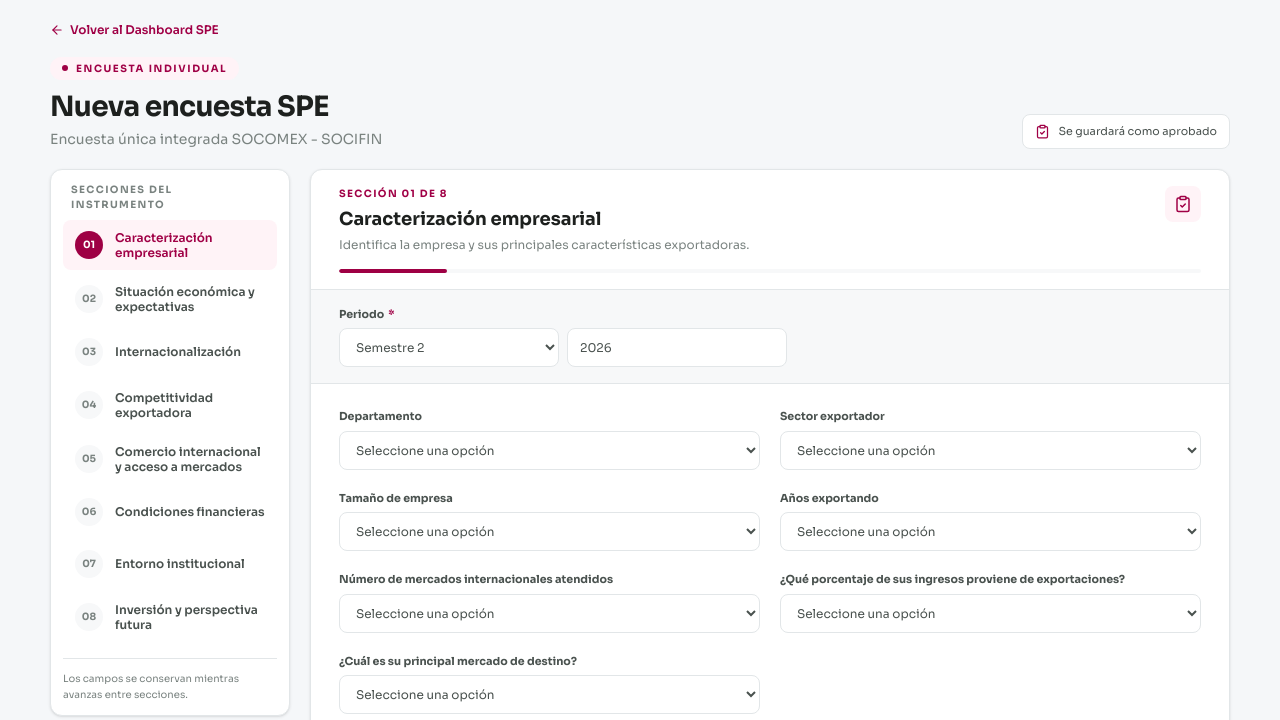
RegistrarSpePage — formulario SOCOMEX–SOCIFIN › "¿Qué otro sector?" solo aparece si elige "Otro"
Expected: the text "¿Qué otro sector?" is not shown
Step 1. Select "Otro" in the dropdown labelled "Sector exportador" → (990, 450), box left=780, top=431, right=1201, bottom=470
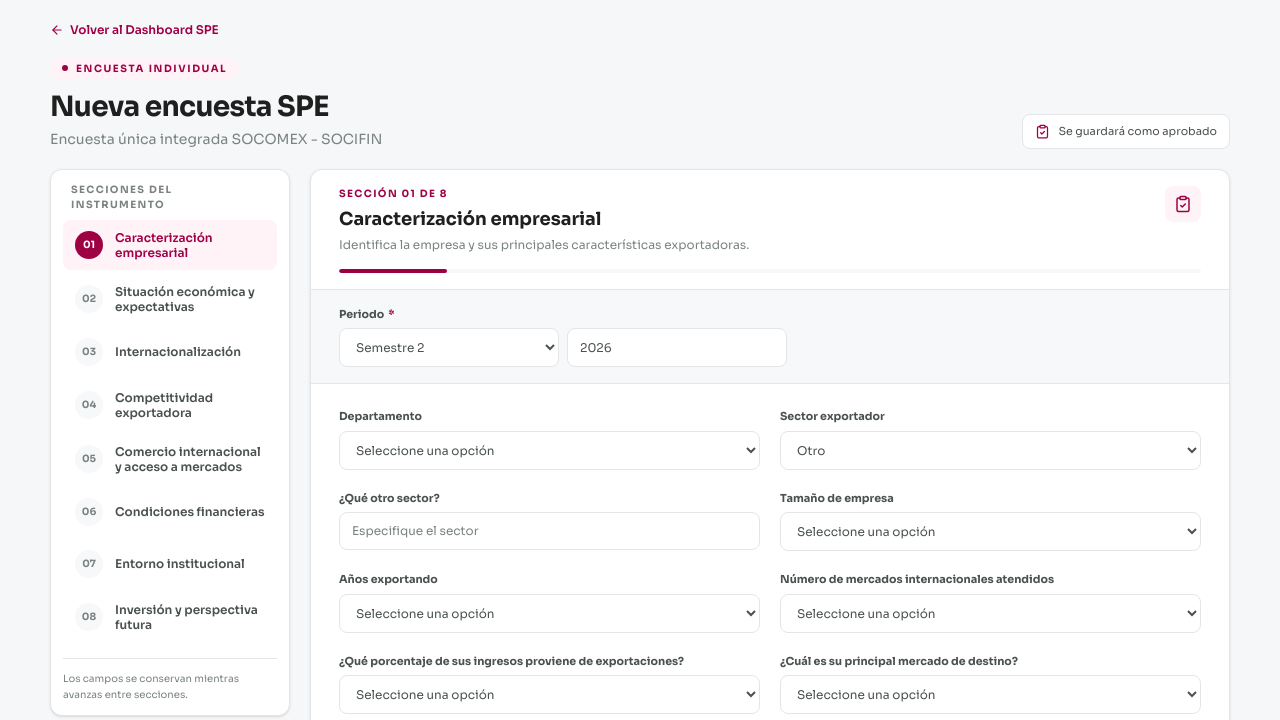
Result: the text "¿Qué otro sector?" is shown at left=339, top=491, right=440, bottom=505
